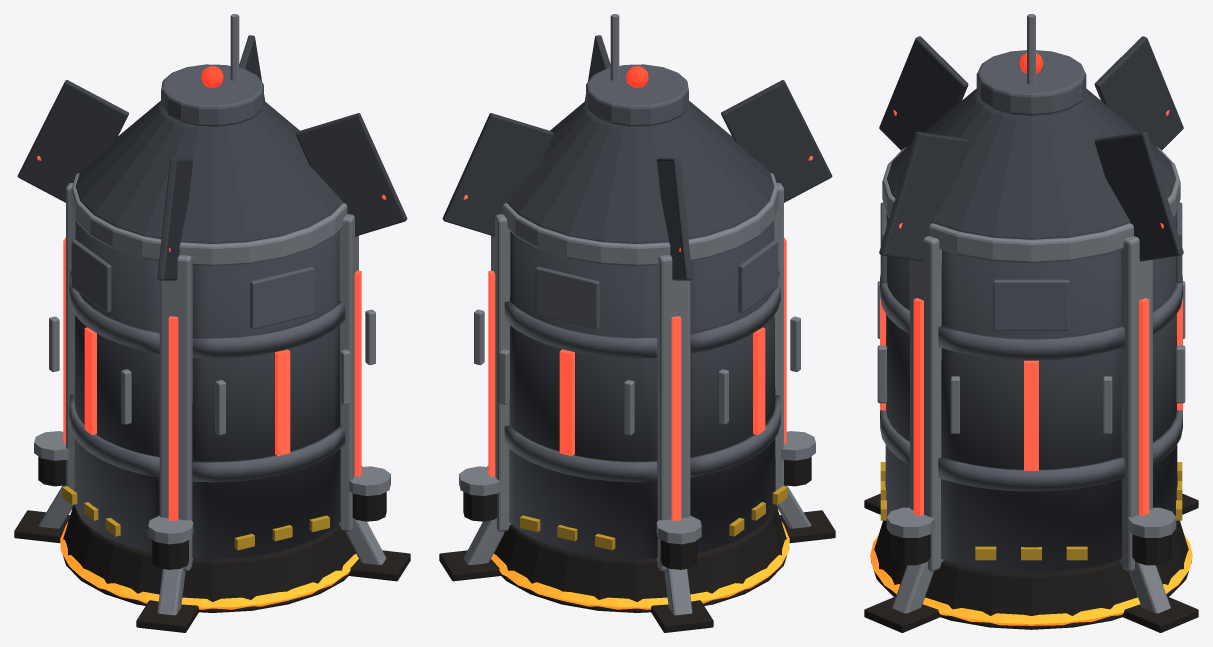
The model's file is td_pod.glb.
3 views of the same model, side by side, from view 1: azimuth 30°, elevation 25°; view 2: azimuth 150°, elevation 25°; view 3: azimuth 270°, elevation 25° (orthographic). The views are drawn at different scales.
Visible parts, largest first — view 1: PodBody, PodDoor3, PodDoor2, PodHot, PodDoor0; view 2: PodBody, PodDoor1, PodDoor2, PodHot, PodDoor0; view 3: PodBody, PodDoor0, PodDoor1, PodDoor3, PodHot.
Boxes of the visible parts, <box> form: PodBody: <box>14,14,410,632</box>; PodDoor3: <box>192,231,350,558</box>; PodDoor2: <box>49,220,159,552</box>; PodHot: <box>60,522,358,612</box>; PodDoor0: <box>361,309,375,466</box>; PodBody: <box>439,14,835,632</box>; PodDoor1: <box>499,231,657,558</box>; PodDoor2: <box>690,220,800,552</box>; PodHot: <box>491,522,789,612</box>; PodDoor0: <box>474,309,488,466</box>; PodBody: <box>864,14,1198,632</box>; PodDoor0: <box>938,250,1124,572</box>; PodDoor1: <box>1153,202,1185,520</box>; PodDoor3: <box>877,202,909,520</box>; PodHot: <box>870,535,1192,625</box>.
Size of the model in its own units: 2.2 by 4.06 by 2.2.
